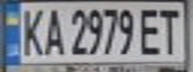2: (66, 4, 87, 56)
7: (100, 4, 121, 55)
9: (84, 4, 106, 55), (118, 4, 139, 55)
A: (39, 3, 66, 56)
E: (136, 4, 166, 56)
K: (18, 3, 45, 57)
T: (154, 4, 187, 55)
